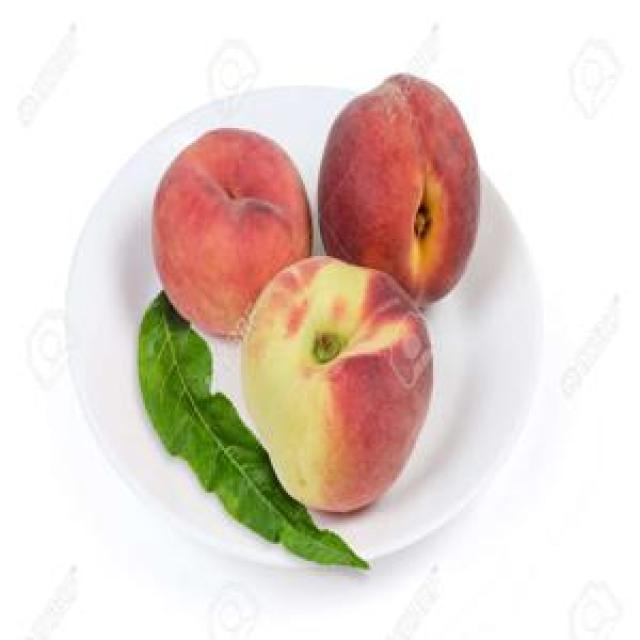peach: (242, 256, 431, 511), (319, 74, 479, 304), (154, 129, 311, 336)
